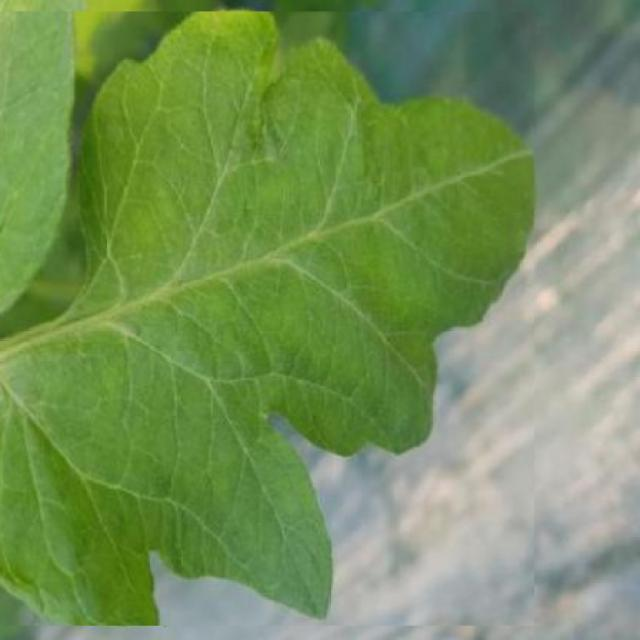Healthy: (0, 11, 534, 626)
